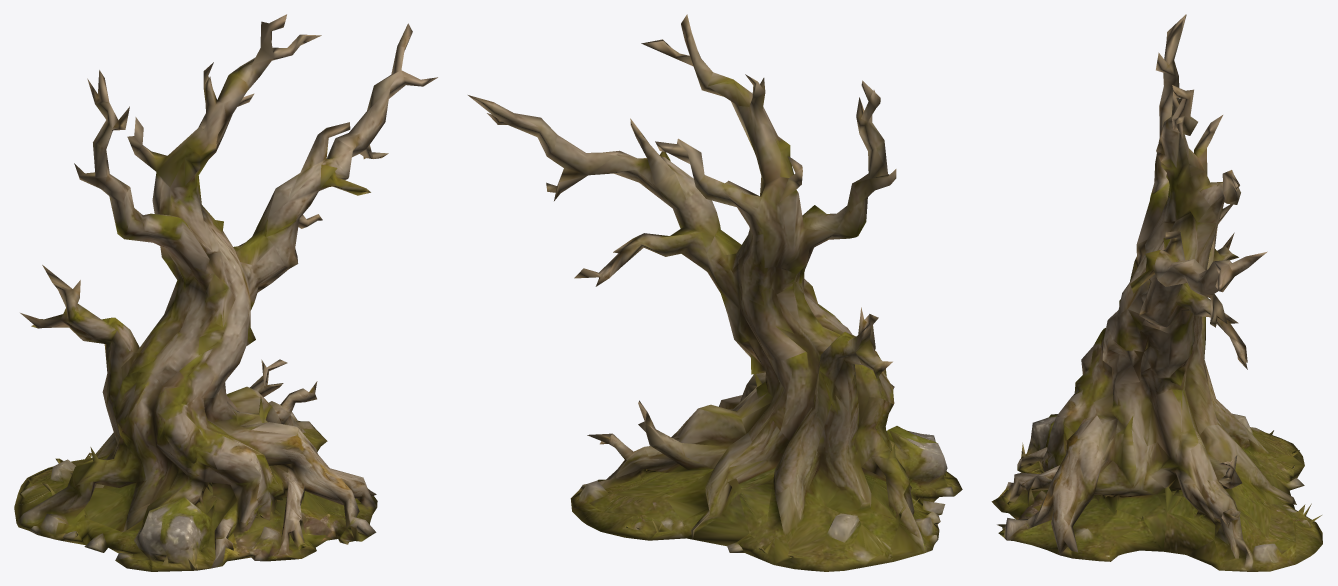
Rendered from land_dead_oak.obj.
3 views of the same model, side by side, from view 1: azimuth 30°, elevation 25°; view 2: azimuth 150°, elevation 25°; view 3: azimuth 270°, elevation 25° (orthographic). The views are drawn at different scales.
Parts seen in each view (by area): view 1: land_dead_oak; view 2: land_dead_oak; view 3: land_dead_oak.
Boxes of the visible parts, box(x1,y1,x2,y2) form: land_dead_oak: box(14, 14, 437, 571); land_dead_oak: box(468, 14, 962, 571); land_dead_oak: box(991, 14, 1322, 571).
Size of the model in its own units: 6.83 by 6.98 by 4.61.
1 material, 1 textured.
